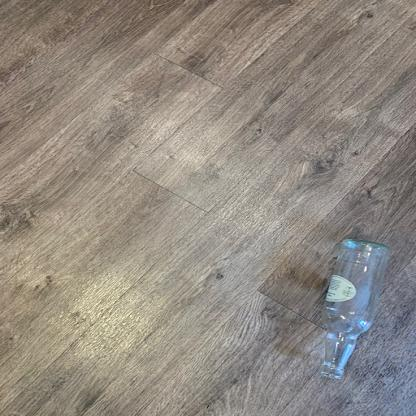trash: (318, 236, 392, 382)
